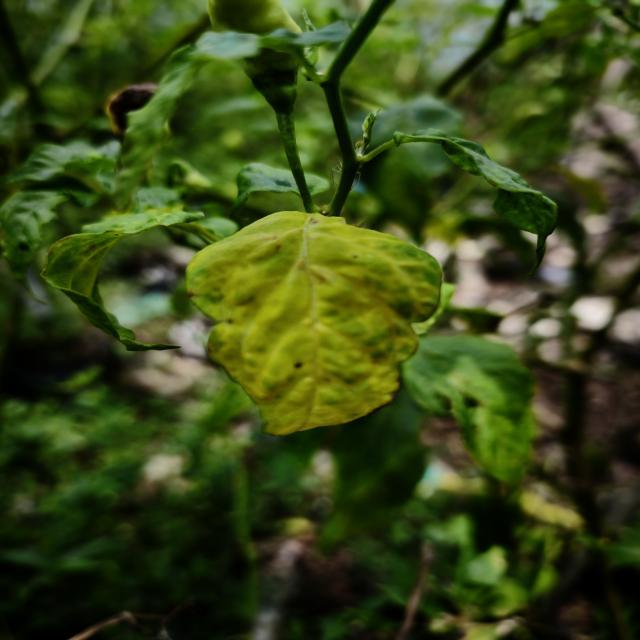Virus Kuning: (184, 209, 444, 436)
